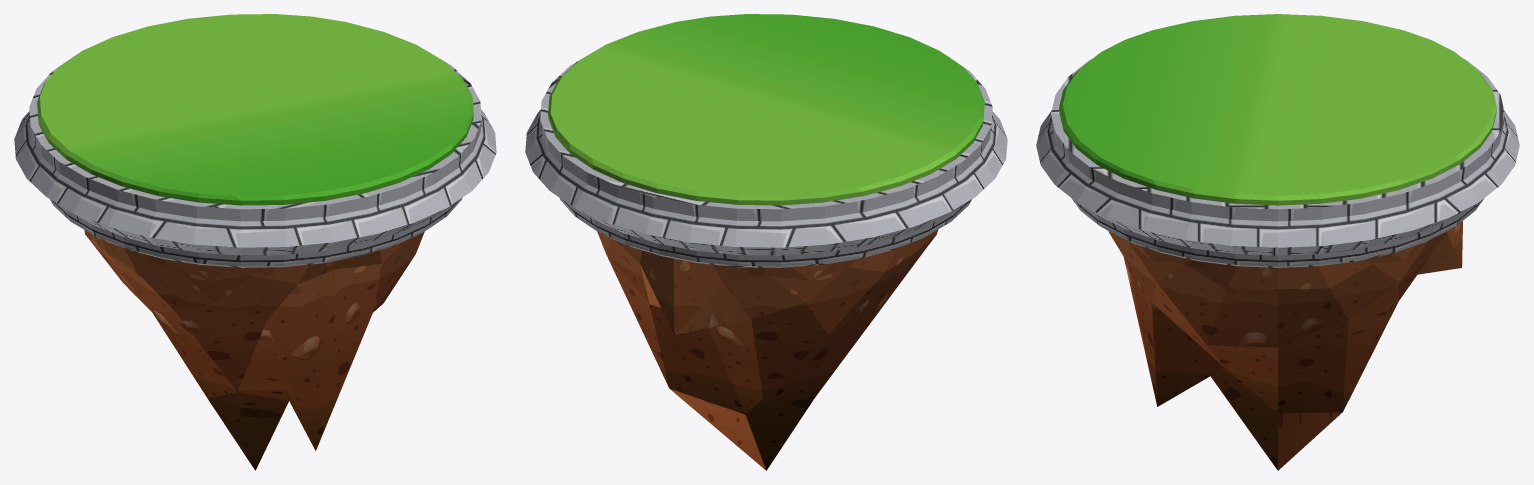
File: CentreIsle.fbx
3 renders of one model, left to right at view 1: azimuth 30°, elevation 25°; view 2: azimuth 150°, elevation 25°; view 3: azimuth 270°, elevation 25°, orthographic.
Parts seen in each view (by area): view 1: Cylinder; view 2: Cylinder; view 3: Cylinder.
Boxes of the visible parts, x1,y1,x2,y2 form: Cylinder: (14,14,496,470); Cylinder: (525,14,1007,470); Cylinder: (1036,14,1519,470).
Bounding box in the file's own units: 1114 × 931 × 1114.
1 material, 1 textured.
